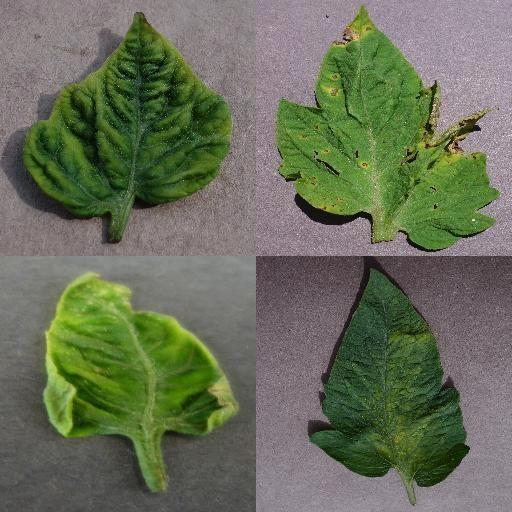Septoria: (272, 5, 502, 251)
Spider Mites: (310, 266, 470, 488)
Yellow Leaf Curl Virus: (21, 12, 234, 218), (42, 270, 240, 436)
